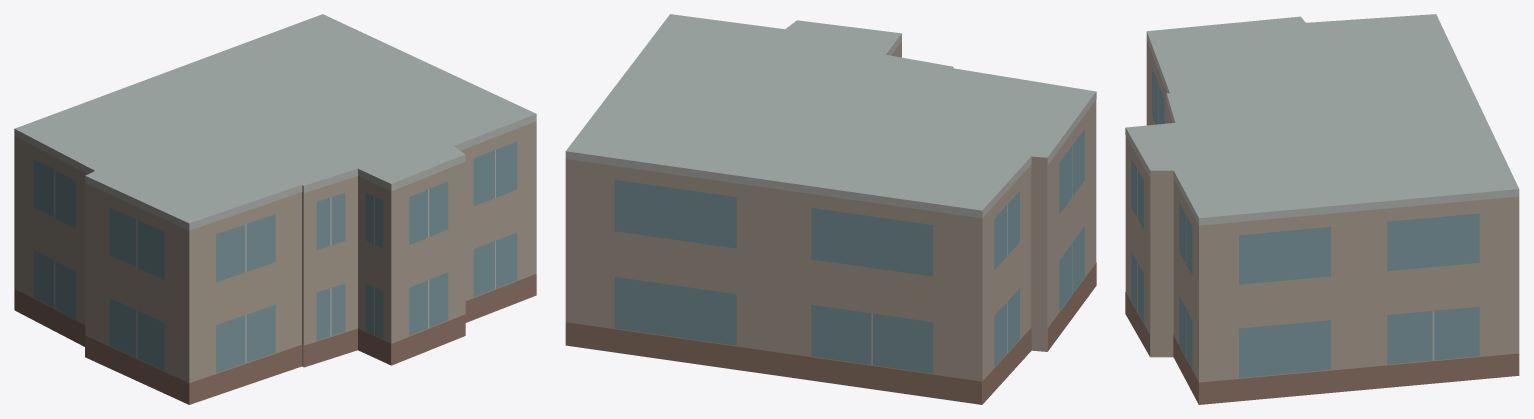
File: survey-upis-32622404.glb
The picture shows the model from 3 angles, left to right: view 1: azimuth 30°, elevation 25°; view 2: azimuth 150°, elevation 25°; view 3: azimuth 270°, elevation 25°; orthographic projection. The views are drawn at different scales.
Visible parts, largest first — view 1: survey-upis-32622404.tmp; view 2: survey-upis-32622404.tmp; view 3: survey-upis-32622404.tmp.
Boxes of the visible parts, box(x1,y1,x2,y2) form: survey-upis-32622404.tmp: box(14, 14, 536, 404); survey-upis-32622404.tmp: box(565, 14, 1096, 404); survey-upis-32622404.tmp: box(1125, 14, 1519, 404).
Size of the model in its own units: 14.33 by 6.1 by 11.67.
